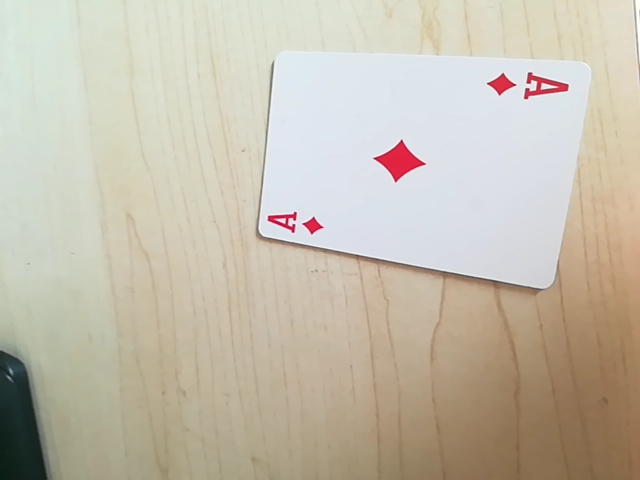fk a: (485, 67, 571, 105), (263, 206, 329, 240)
